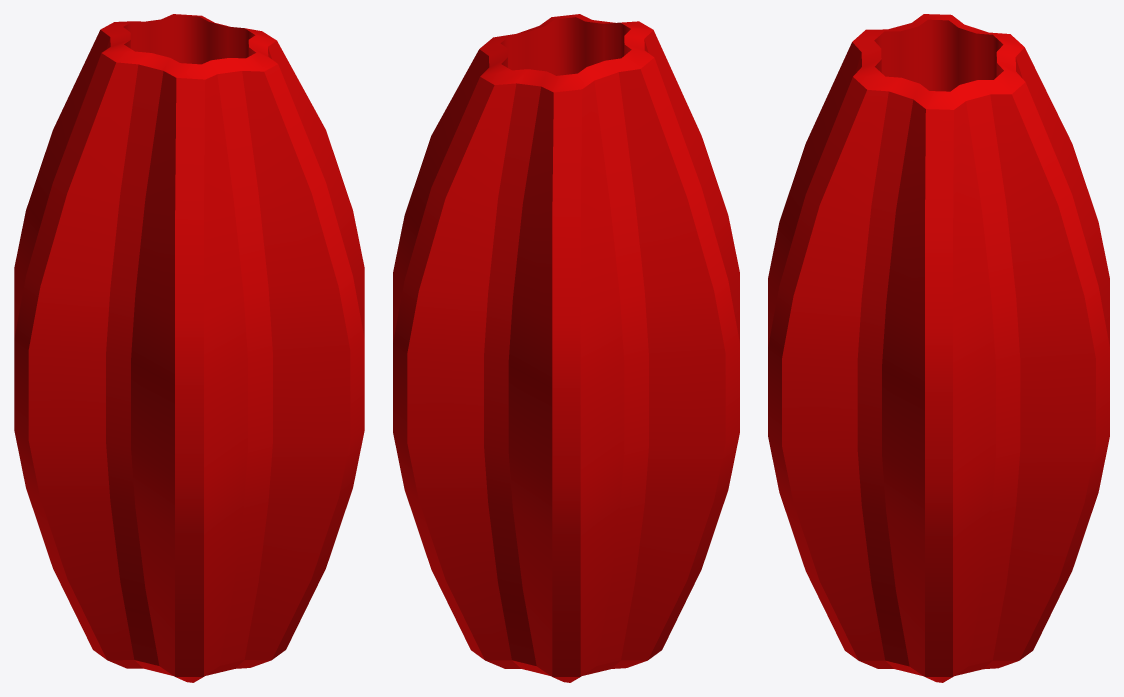
The model's file is Vase_3.fbx.
3 renders of one model, left to right at view 1: azimuth 30°, elevation 25°; view 2: azimuth 150°, elevation 25°; view 3: azimuth 270°, elevation 25°, orthographic. The views are drawn at different scales.
Parts seen in each view (by area): view 1: Vase_3; view 2: Vase_3; view 3: Vase_3.
Boxes of the visible parts, box(x1,y1,x2,y2) form: Vase_3: box(14, 14, 364, 682); Vase_3: box(393, 14, 739, 682); Vase_3: box(768, 14, 1109, 682).
Size of the model in its own units: 25.28 by 44.5 by 22.83.
